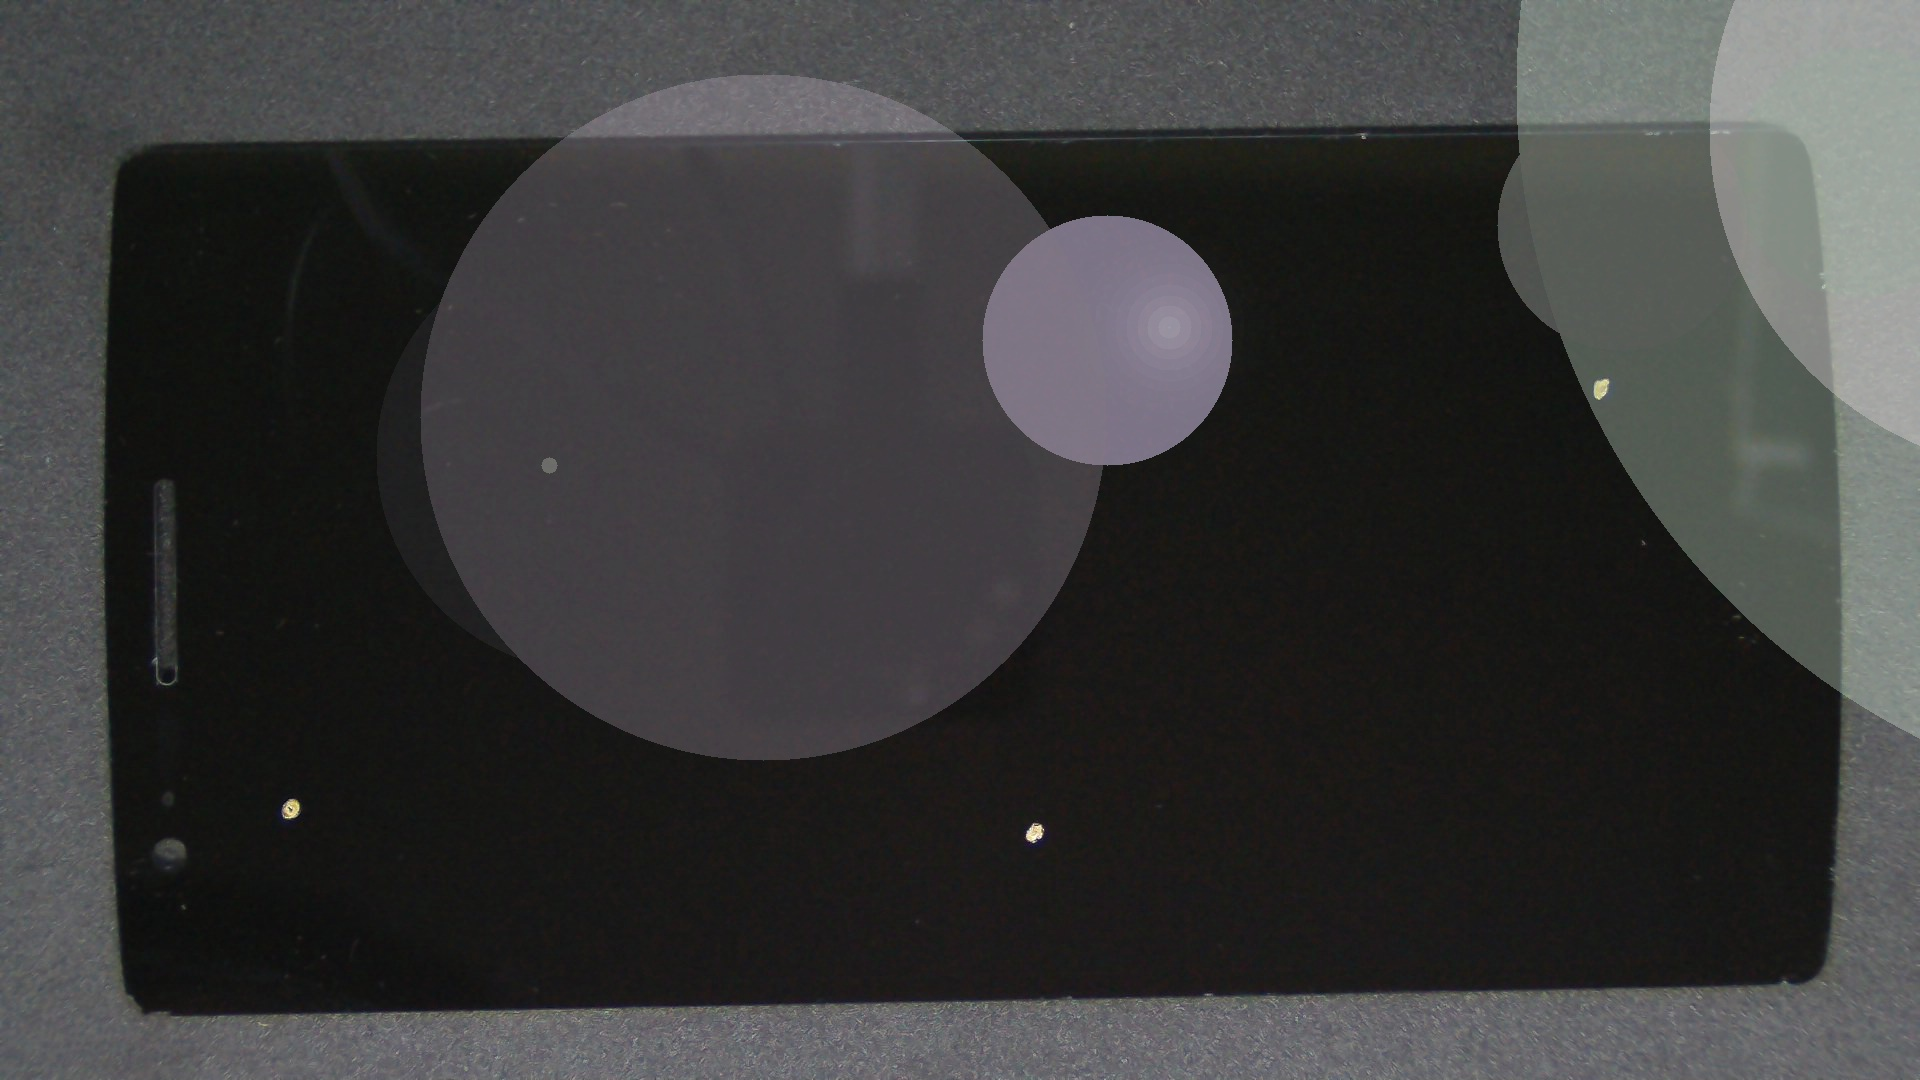oil: (517, 410, 1545, 1080), (802, 189, 1920, 566), (148, 394, 429, 1080)
